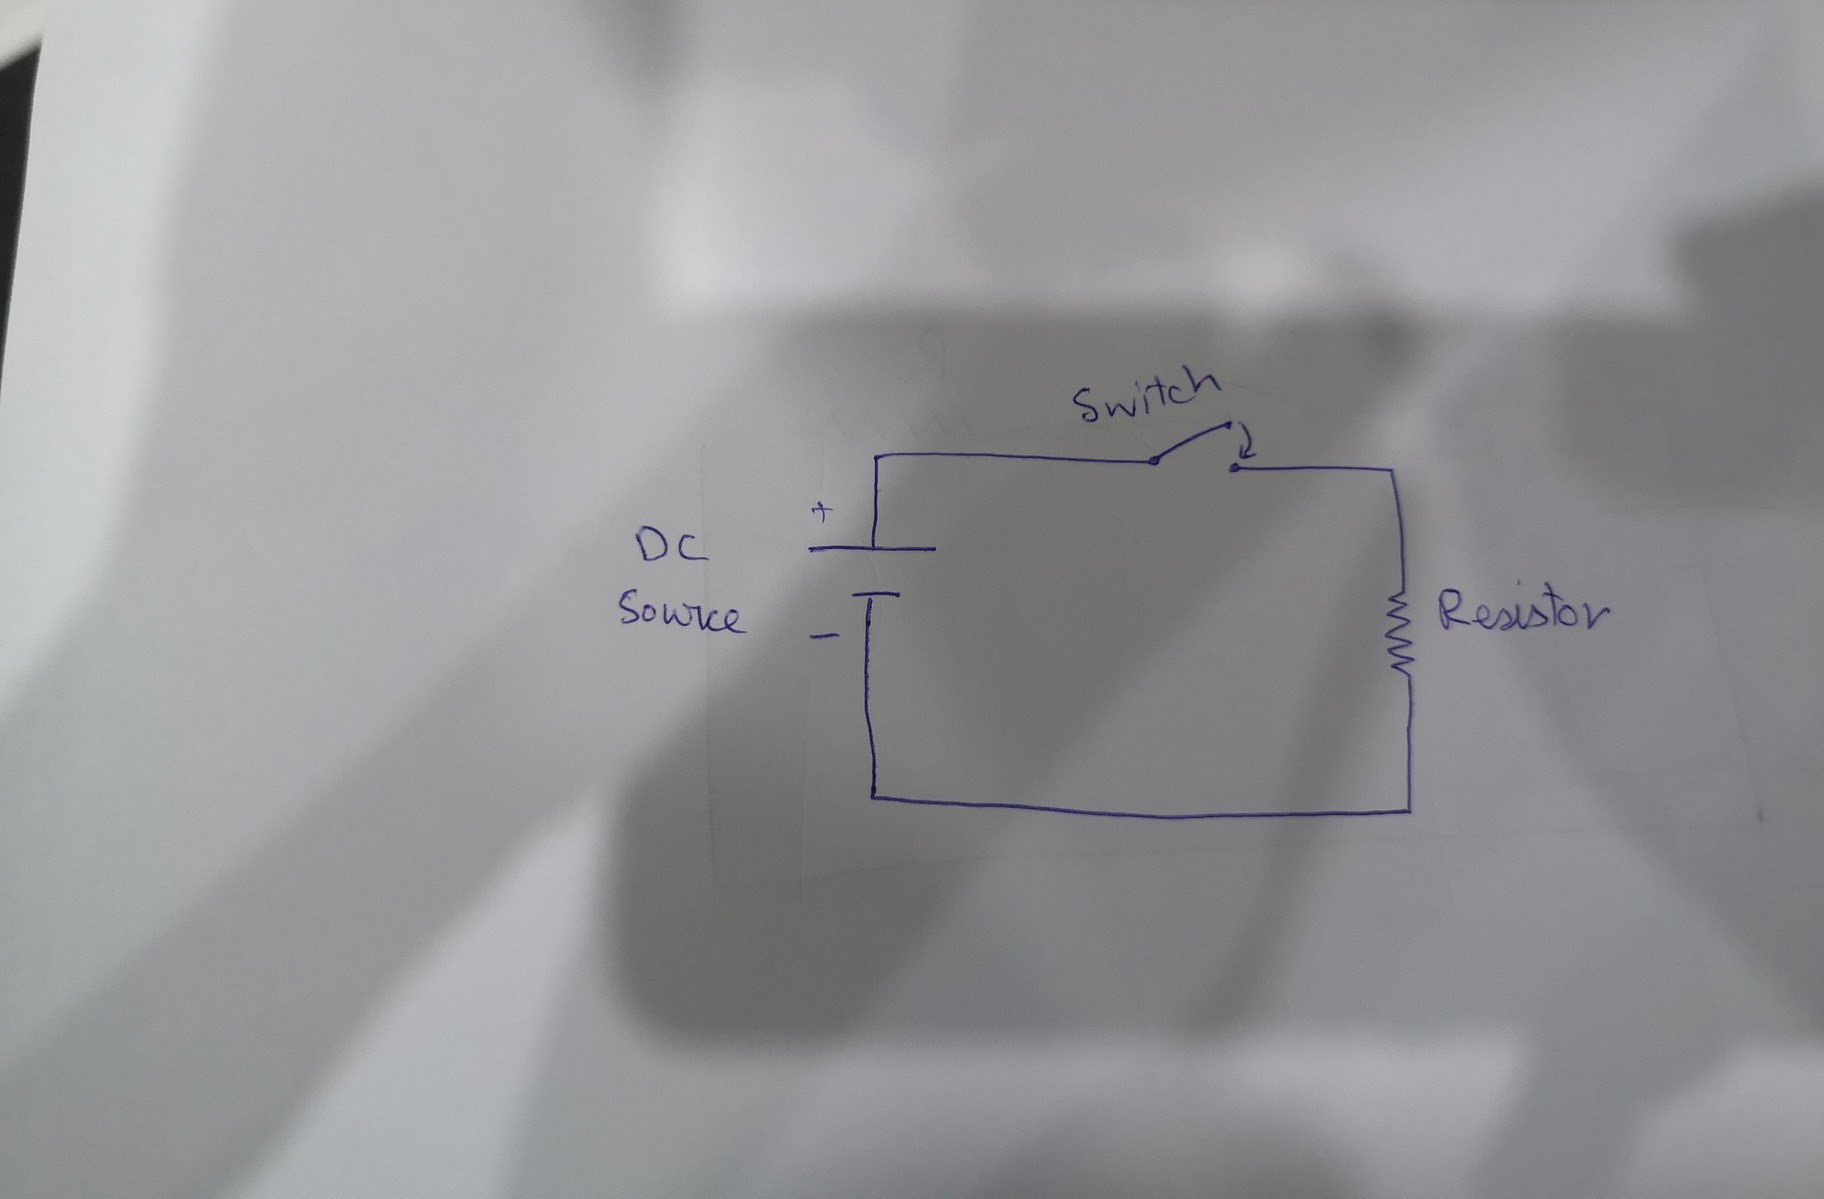junction: (1368, 454, 1406, 491), (1392, 795, 1421, 824), (862, 781, 889, 810), (869, 447, 886, 466)
resistor: (1380, 581, 1419, 682)
switch: (1142, 413, 1258, 480)
text: (1435, 571, 1621, 634), (1071, 363, 1228, 426), (616, 582, 749, 638), (630, 521, 713, 567)
voltage.dc: (802, 537, 939, 602)
